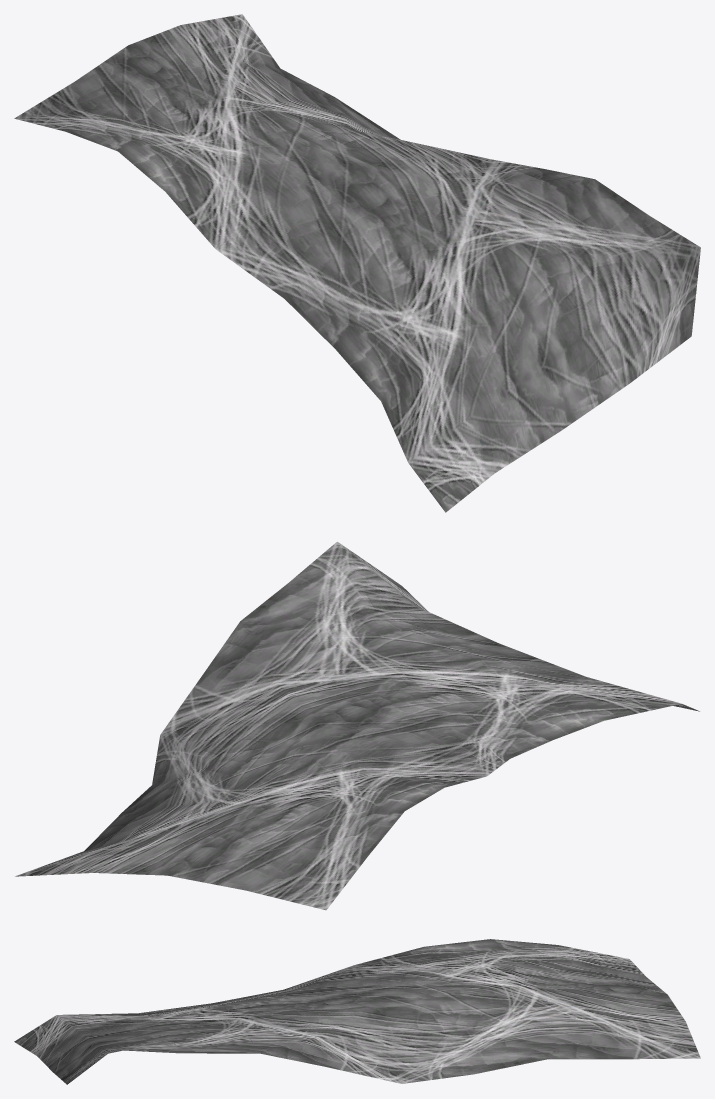
Rendered from SWORDLIGHT20_PS-AREA01_31.fbx.
The picture shows the model from 3 angles, top to bottom: view 1: azimuth 30°, elevation 25°; view 2: azimuth 150°, elevation 25°; view 3: azimuth 270°, elevation 25°; orthographic projection. The views are drawn at different scales.
Parts seen in each view (by area): view 1: SWORDLIGHT20_PS-AREA01_31; view 2: SWORDLIGHT20_PS-AREA01_31; view 3: SWORDLIGHT20_PS-AREA01_31.
Part boxes in pixels (x1=…): SWORDLIGHT20_PS-AREA01_31: x1=14, y1=14, x2=700, y2=512; SWORDLIGHT20_PS-AREA01_31: x1=15, y1=541, x2=699, y2=910; SWORDLIGHT20_PS-AREA01_31: x1=14, y1=939, x2=700, y2=1084.
Size of the model in its own units: 65343 by 26573 by 153210.
Materials: 1 (1 with a texture image).
